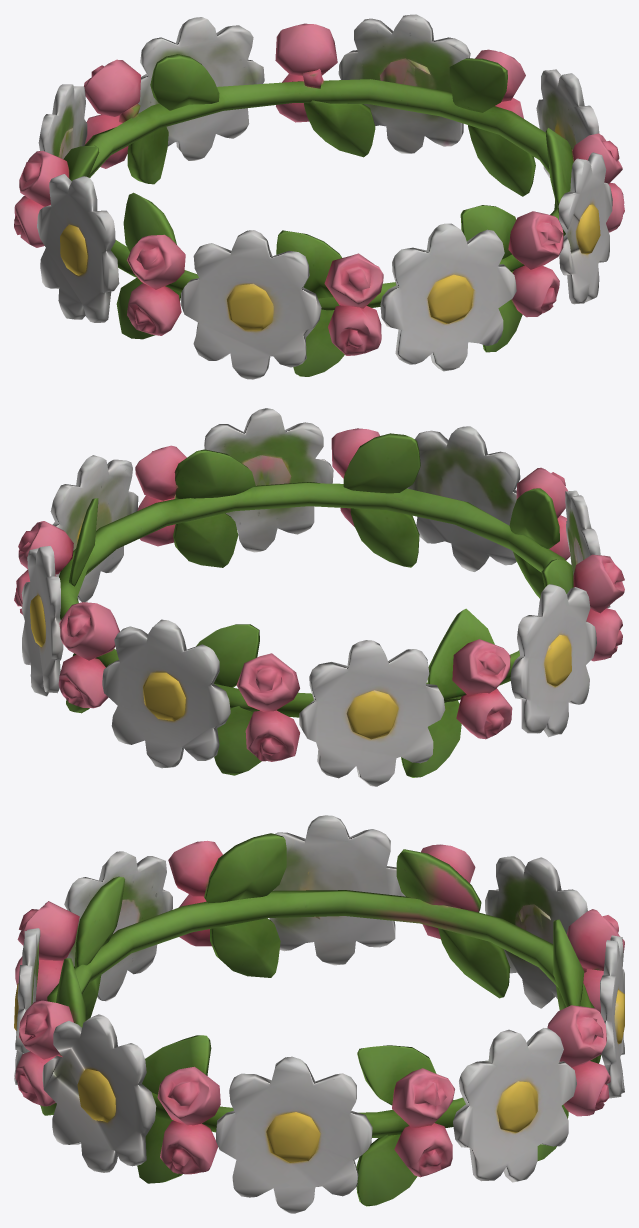
File: optimized_glb.glb
The picture shows the model from 3 angles, top to bottom: view 1: azimuth 30°, elevation 25°; view 2: azimuth 150°, elevation 25°; view 3: azimuth 270°, elevation 25°; orthographic projection. The views are drawn at different scales.
Visible parts, largest first — view 1: flower-crown; view 2: flower-crown; view 3: flower-crown.
Boxes of the visible parts, x1,y1,x2,y2 form: flower-crown: (14,14,624,379); flower-crown: (14,408,624,786); flower-crown: (14,815,624,1213).
Size of the model in its own units: 0.998 by 0.2793 by 0.998.
1 material, 1 textured.
